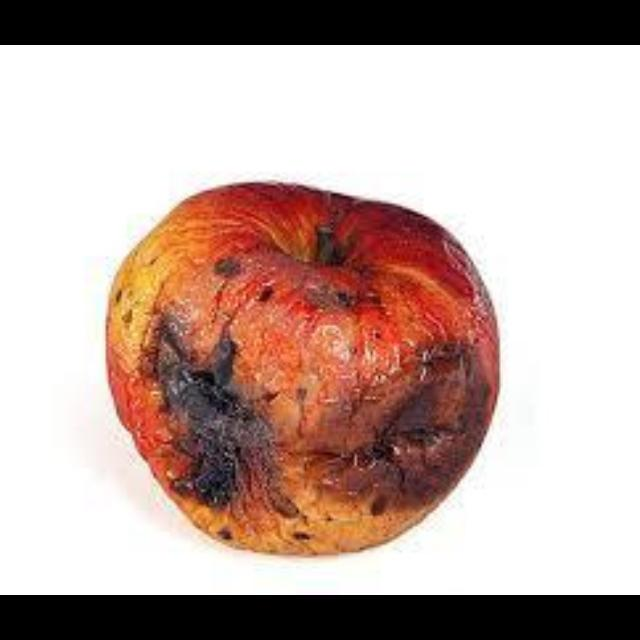apple: (106, 183, 497, 553)
rotten: (106, 183, 497, 553)
